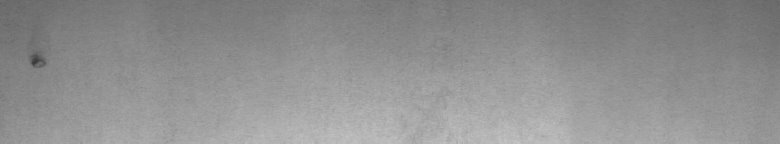fi: (25, 48, 47, 76)
